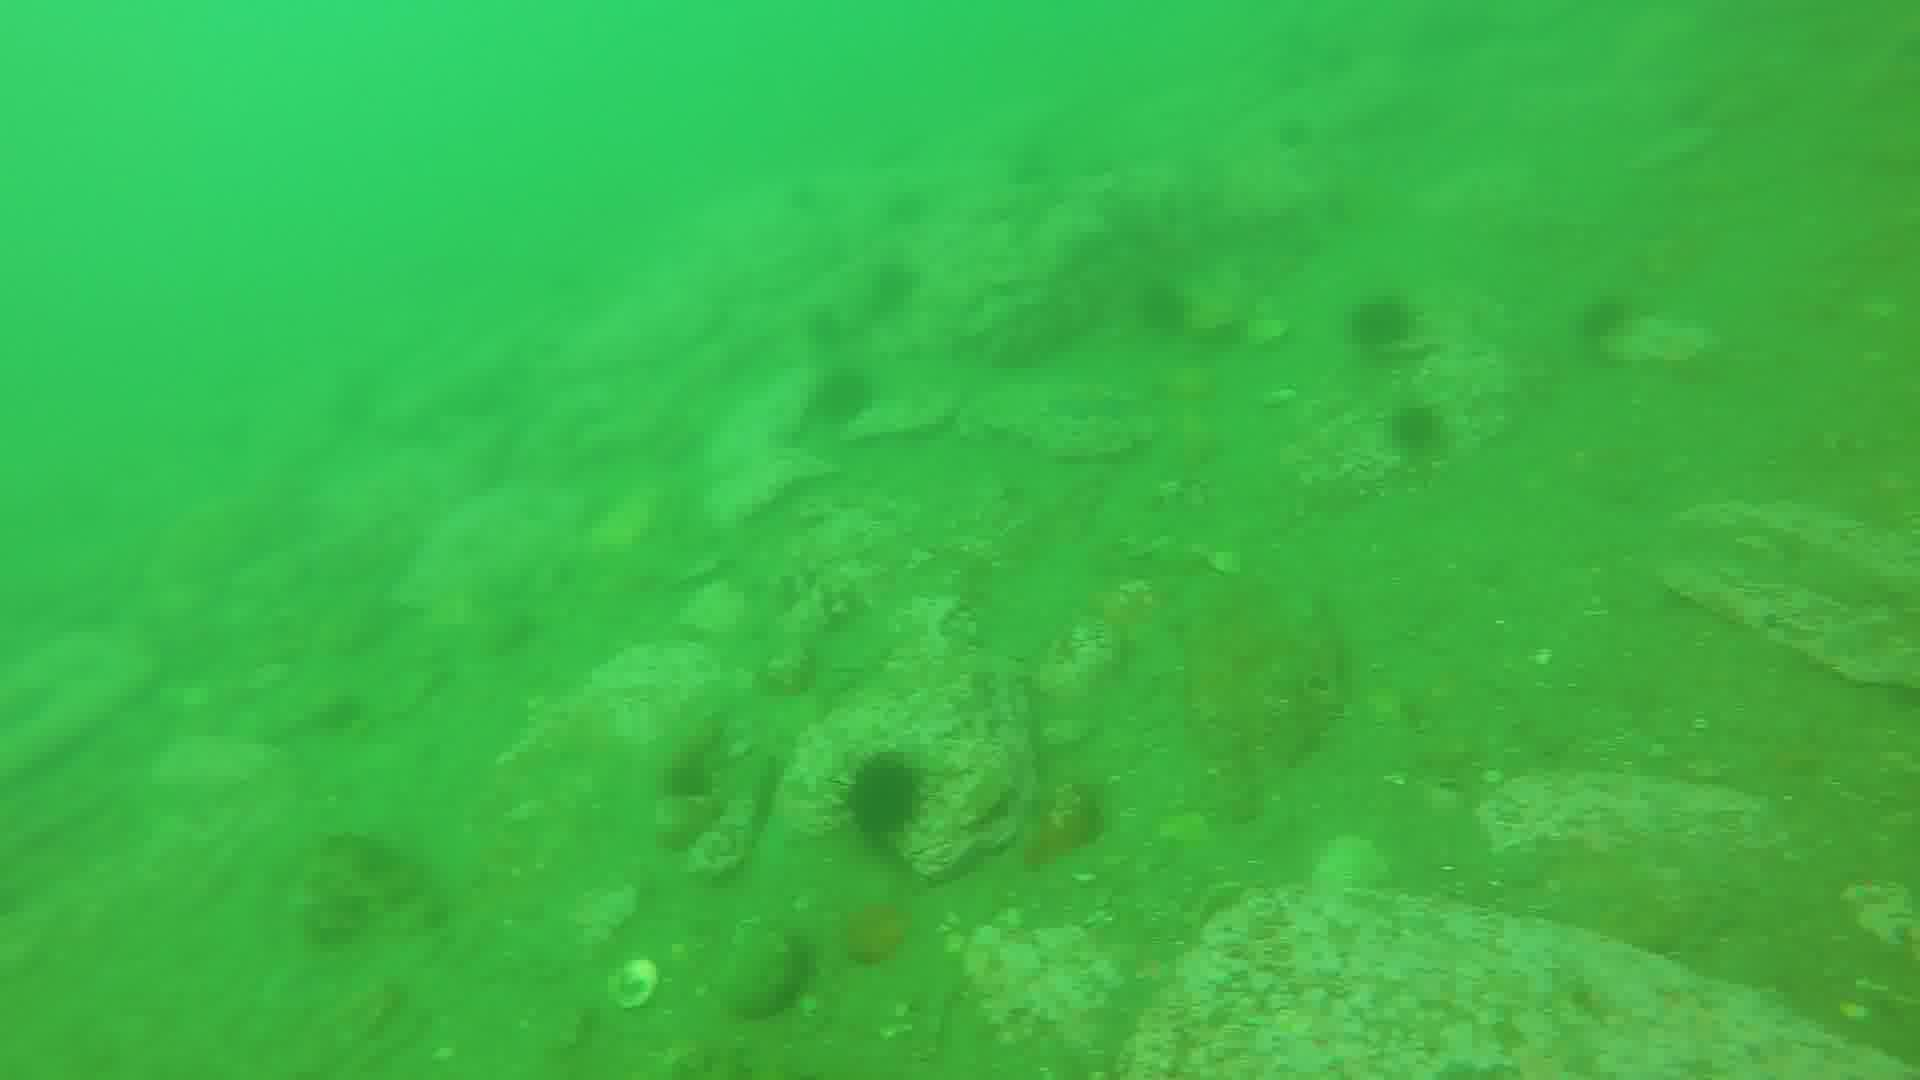echinus: (851, 754, 928, 837), (1395, 406, 1455, 465), (1349, 297, 1410, 348), (819, 365, 873, 418), (1575, 297, 1631, 338)
